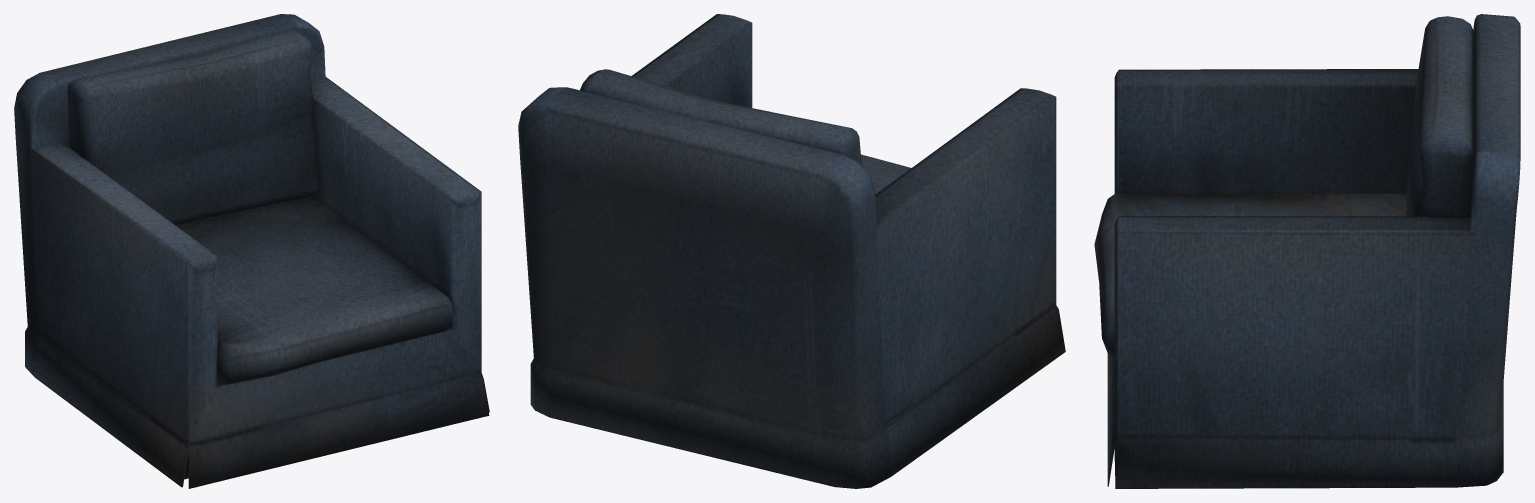
File: easy_chair.obj
3 views of the same model, side by side, from view 1: azimuth 30°, elevation 25°; view 2: azimuth 150°, elevation 25°; view 3: azimuth 270°, elevation 25° (orthographic). The views are drawn at different scales.
Visible parts, largest first — view 1: Model001_4_easy chair_1_0_0; view 2: Model001_4_easy chair_1_0_0; view 3: Model001_4_easy chair_1_0_0.
Part boxes in pixels (x1,y1,x2,y2): Model001_4_easy chair_1_0_0: [14, 14, 489, 488]; Model001_4_easy chair_1_0_0: [518, 14, 1065, 488]; Model001_4_easy chair_1_0_0: [1094, 14, 1520, 488].
Bounding box in the file's own units: 1.13 × 1.03 × 1.19.
